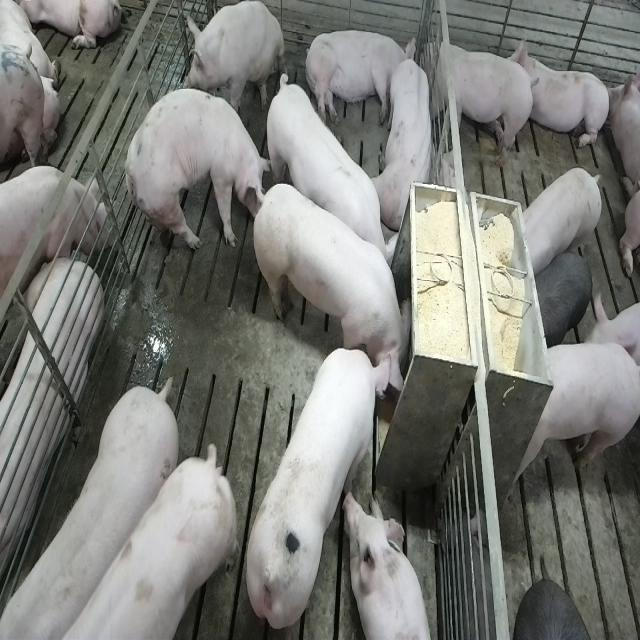Feeding: (244, 342, 398, 632), (256, 173, 420, 387)
Lateral_lying: (0, 249, 101, 606), (304, 28, 416, 127)
Sitting: (183, 0, 283, 116)
Standing: (0, 378, 175, 640), (262, 70, 395, 284), (124, 84, 272, 256), (506, 342, 638, 500), (422, 31, 535, 171), (0, 168, 106, 304), (516, 166, 603, 278), (533, 246, 594, 345)
Sternal_lying: (346, 491, 434, 640), (374, 52, 437, 231), (518, 36, 612, 153)
